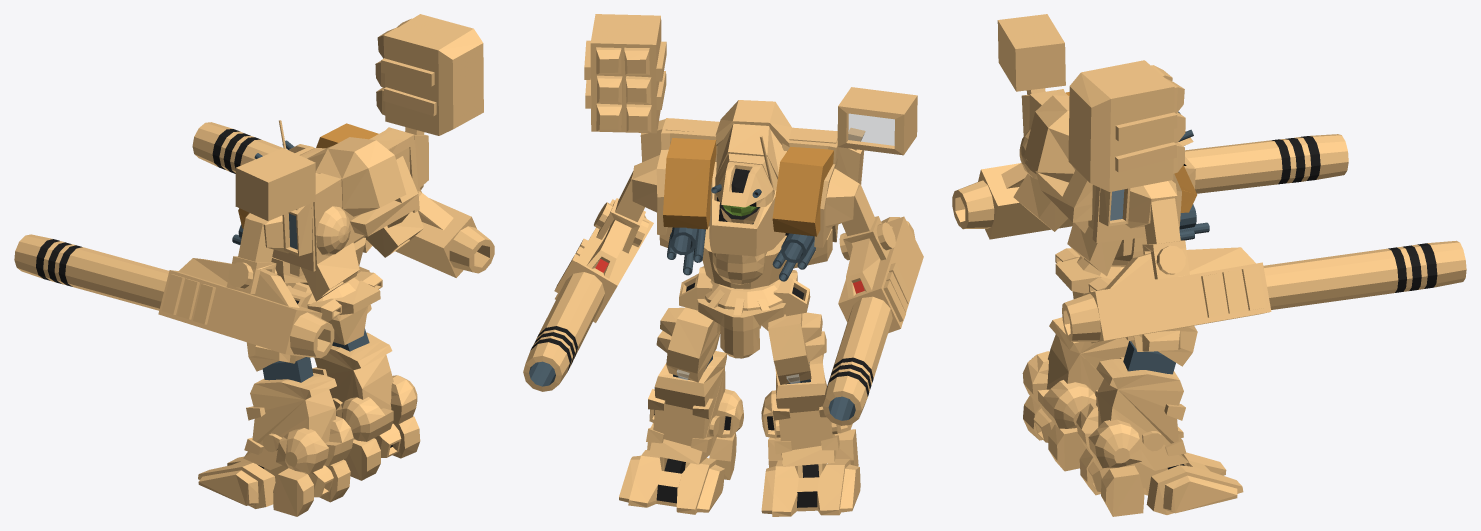
The model's file is SD Macross Tomahawk Destroid.glb.
3 renders of one model, left to right at view 1: azimuth 30°, elevation 25°; view 2: azimuth 150°, elevation 25°; view 3: azimuth 270°, elevation 25°, orthographic. The views are drawn at different scales.
Visible parts, largest first — view 1: group1973195242, group1469693992, group549404732, group1811136351, group717617391, group1913935337, group1817310175, group722388490, group1162267447, group2047788005, group928984874, group1239715684 (+5 smaller); view 2: group1811136351, group1469693992, group1973195242, group717617391, group549404732, group1162267447, group722388490, group167934761, group1701371884, group2110232010, group2107968094, group1817310175 (+14 smaller); view 3: group717617391, group1811136351, group549404732, group1973195242, group1469693992, group722388490, group1913935337, group1817310175, group2047788005, group1162267447, group1009602798, group2099922778 (+2 smaller).
Boxes of the visible parts, x1=… form: group1973195242: x1=14, y1=218, x2=334, y2=358; group1469693992: x1=198, y1=342, x2=353, y2=516; group549404732: x1=375, y1=14, x2=483, y2=135; group1811136351: x1=312, y1=304, x2=420, y2=480; group717617391: x1=192, y1=122, x2=494, y2=277; group1913935337: x1=301, y1=129, x2=423, y2=301; group1817310175: x1=315, y1=137, x2=406, y2=216; group722388490: x1=235, y1=148, x2=315, y2=220; group1162267447: x1=285, y1=266, x2=382, y2=345; group2047788005: x1=350, y1=156, x2=419, y2=236; group928984874: x1=282, y1=203, x2=312, y2=256; group1239715684: x1=316, y1=206, x2=350, y2=255; group1811136351: x1=619, y1=307, x2=743, y2=514; group1469693992: x1=761, y1=312, x2=860, y2=516; group1973195242: x1=822, y1=184, x2=923, y2=425; group717617391: x1=523, y1=171, x2=653, y2=391; group549404732: x1=584, y1=14, x2=666, y2=133; group1162267447: x1=679, y1=266, x2=810, y2=358; group722388490: x1=837, y1=87, x2=917, y2=155; group167934761: x1=663, y1=138, x2=716, y2=229; group1701371884: x1=772, y1=146, x2=833, y2=236; group2110232010: x1=709, y1=162, x2=785, y2=256; group2107968094: x1=716, y1=123, x2=786, y2=179; group1817310175: x1=715, y1=100, x2=791, y2=151; group717617391: x1=1062, y1=198, x2=1466, y2=343; group1811136351: x1=1076, y1=326, x2=1243, y2=516; group549404732: x1=1068, y1=60, x2=1185, y2=191; group1973195242: x1=952, y1=134, x2=1348, y2=239; group1469693992: x1=1022, y1=317, x2=1183, y2=471; group722388490: x1=997, y1=14, x2=1065, y2=91; group1913935337: x1=1013, y1=90, x2=1121, y2=276; group1817310175: x1=1024, y1=95, x2=1075, y2=182; group2047788005: x1=1035, y1=169, x2=1092, y2=222; group1162267447: x1=1055, y1=248, x2=1124, y2=298; group1009602798: x1=1125, y1=180, x2=1177, y2=228; group2099922778: x1=1092, y1=174, x2=1181, y2=242.
Bounding box in the file's own units: 1.54 × 1.69 × 1.72.
